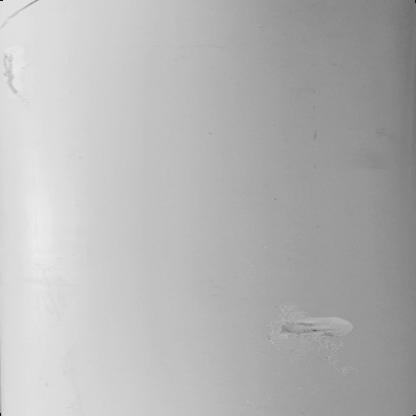sunshang: (263, 311, 362, 351), (1, 47, 32, 114), (1, 1, 42, 34)
